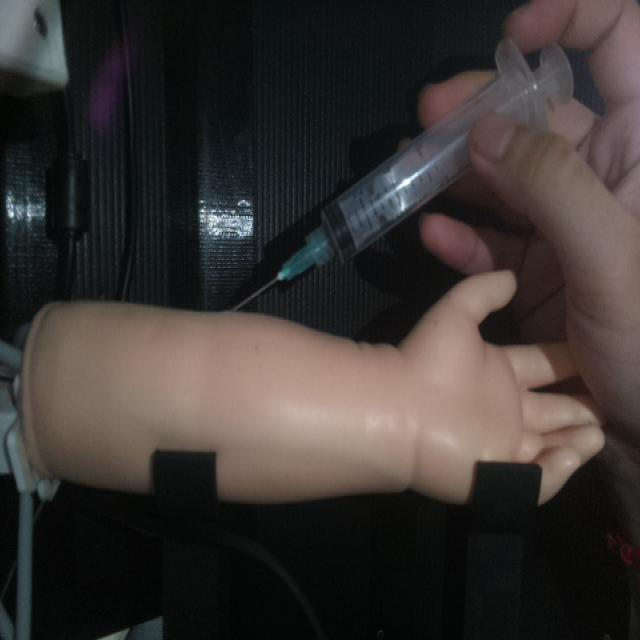Outside: (226, 35, 580, 316)
